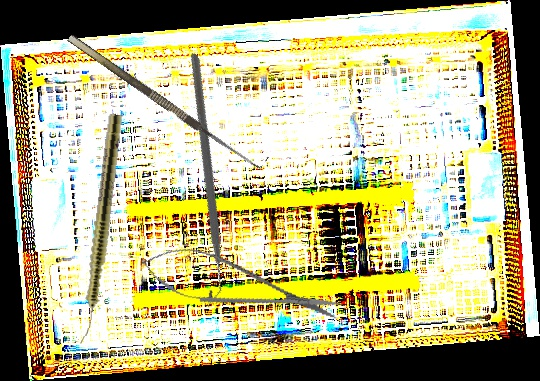Chopper: (79, 51, 324, 309)
Handpiece: (77, 113, 124, 347)
Hook Surgical: (67, 24, 269, 174)
Micro Scissor: (134, 235, 348, 338)
